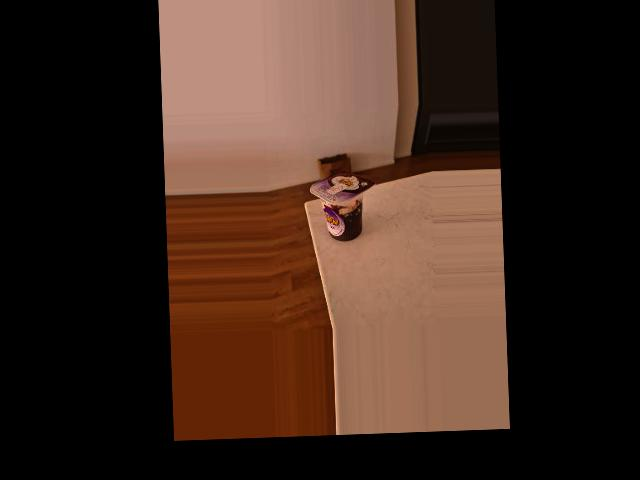milky: (309, 168, 376, 242)
